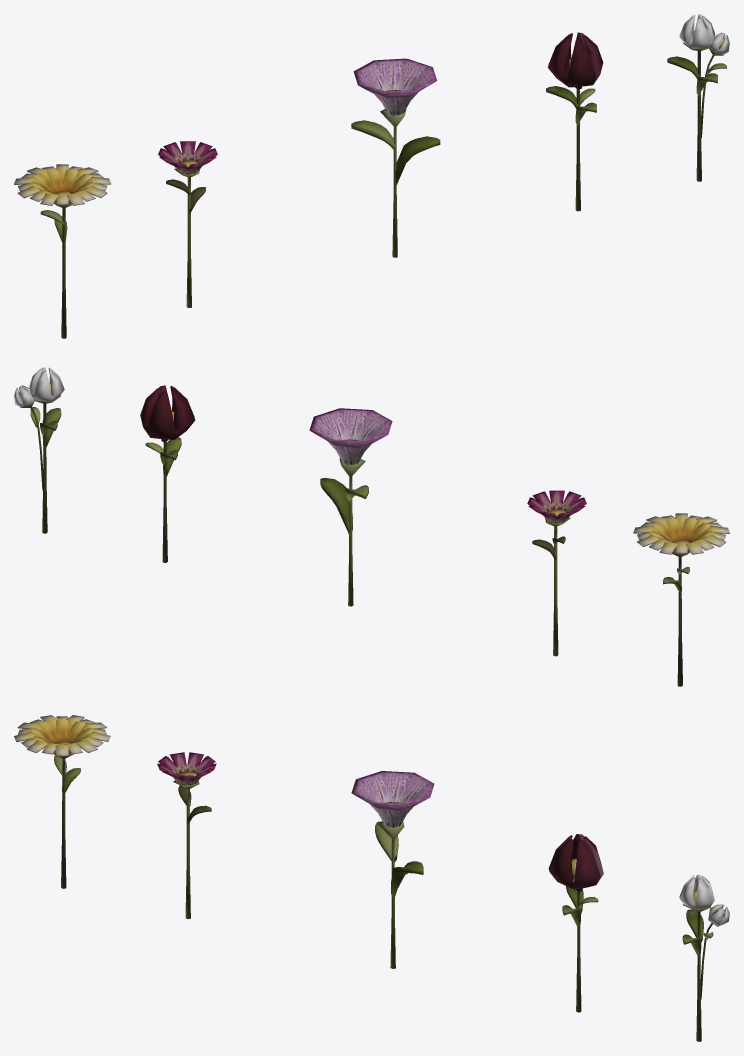
The model's file is LowPolyFlowers.fbx.
3 views of the same model, one above another, from view 1: azimuth 30°, elevation 25°; view 2: azimuth 150°, elevation 25°; view 3: azimuth 330°, elevation 25° (orthographic).
Parts seen in each view (by area): view 1: Flower.3, Flower.1, Flower.4, Flower.5, Flower.2; view 2: Flower.3, Flower.1, Flower.4, Flower.5, Flower.2; view 3: Flower.3, Flower.1, Flower.4, Flower.5, Flower.2.
Boxes of the visible parts, x1,y1,x2,y2 form: Flower.3: (351,58,440,257); Flower.1: (14,164,111,338); Flower.4: (546,32,603,211); Flower.5: (667,14,729,181); Flower.2: (158,141,217,307); Flower.3: (309,408,392,606); Flower.1: (633,513,729,686); Flower.4: (140,385,195,562); Flower.5: (14,367,64,533); Flower.2: (527,490,586,656); Flower.3: (351,771,434,968); Flower.1: (14,715,110,888); Flower.4: (548,834,603,1012); Flower.5: (679,874,729,1041); Flower.2: (157,752,216,918).
Size of the model in its own units: 67.58 by 16.44 by 8.02.
1 material, 1 textured.
